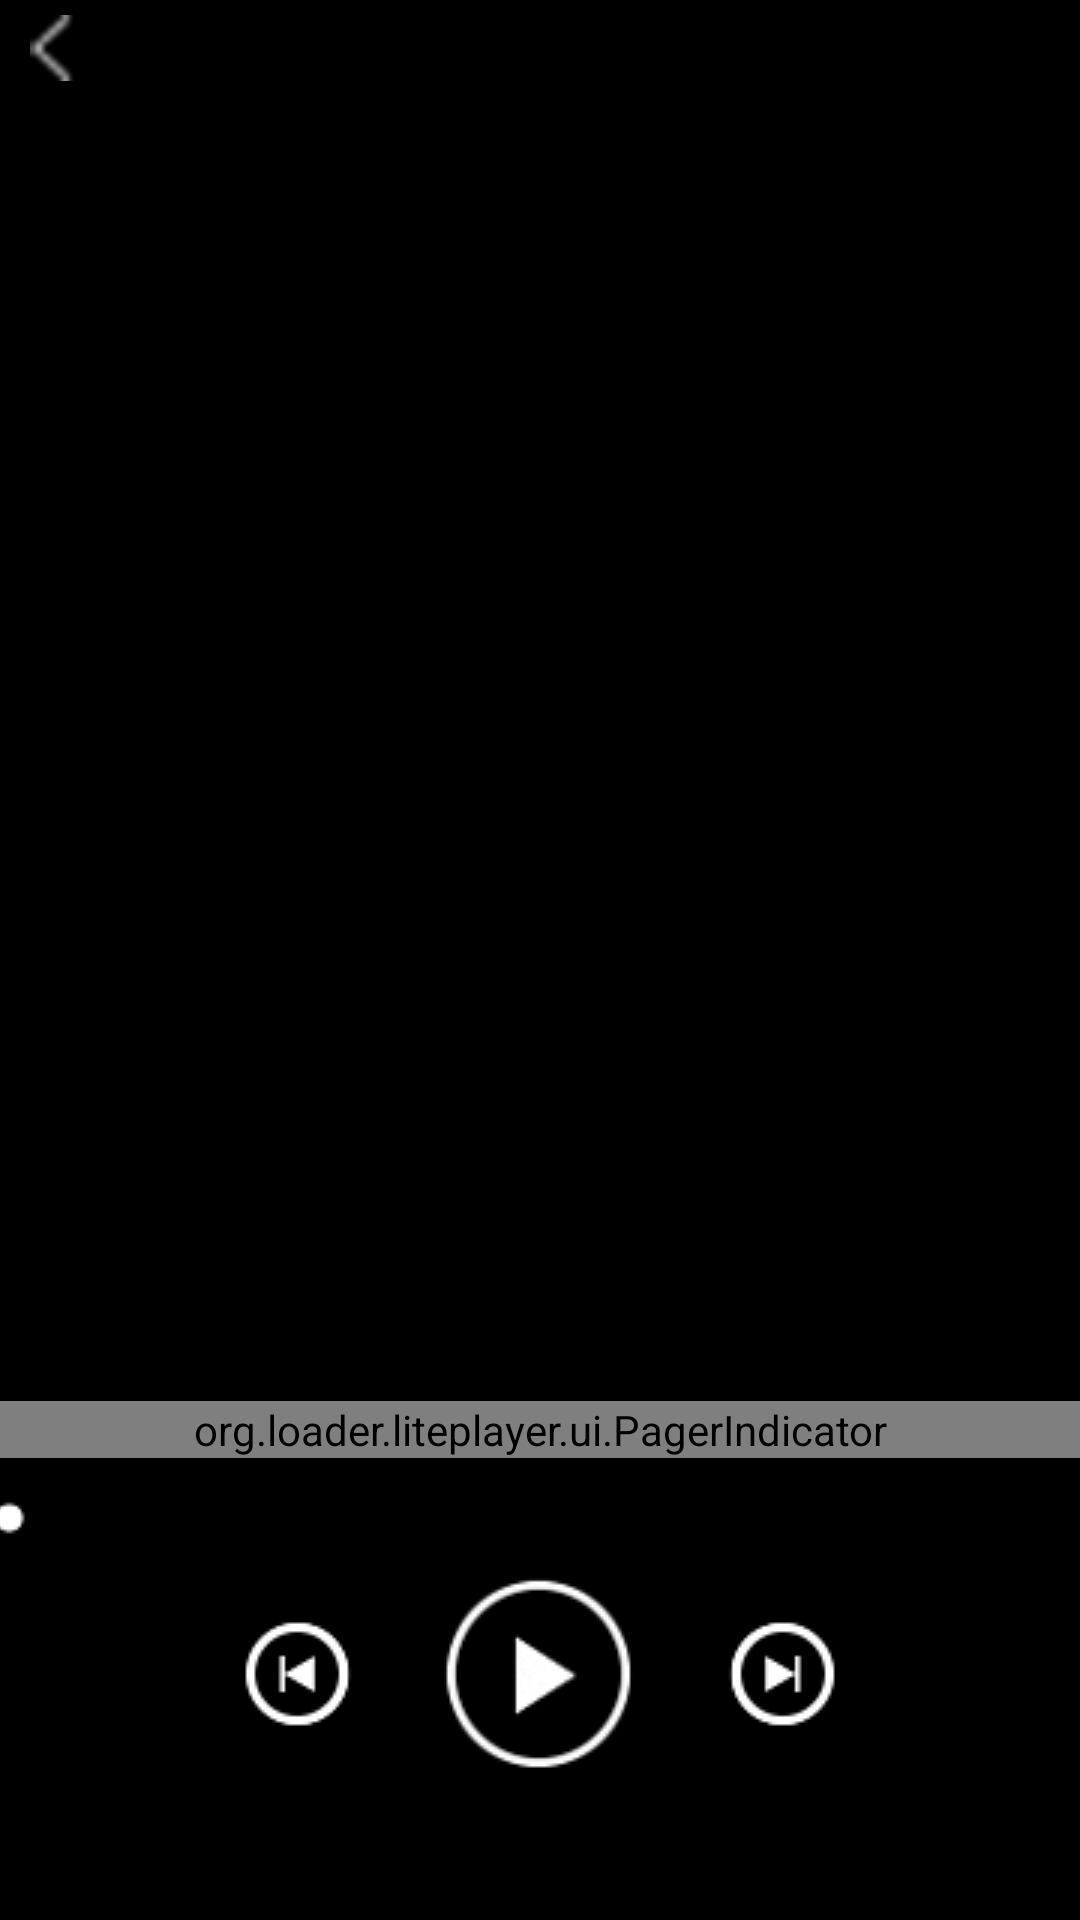

Icons on this 1080px×1920px Android screen, each with its box as (x1, y1, x2, y2):
player next: (730, 1622, 835, 1726)
player play: (446, 1580, 631, 1768)
player pre: (245, 1622, 350, 1726)
